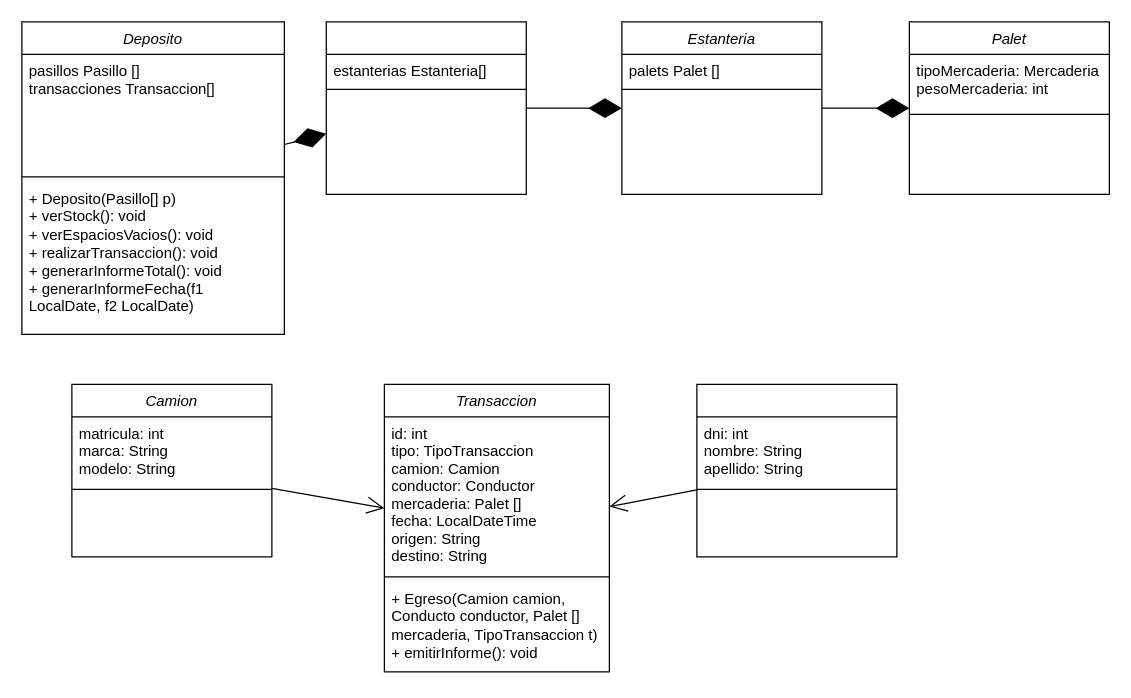
This 1131x698 diagram has some shape labels left out. Here are the shapes that lost their labels. From the top down, the box of each, then its label:
(325, 21, 526, 194): Pasillo
(696, 383, 897, 557): Conductor
